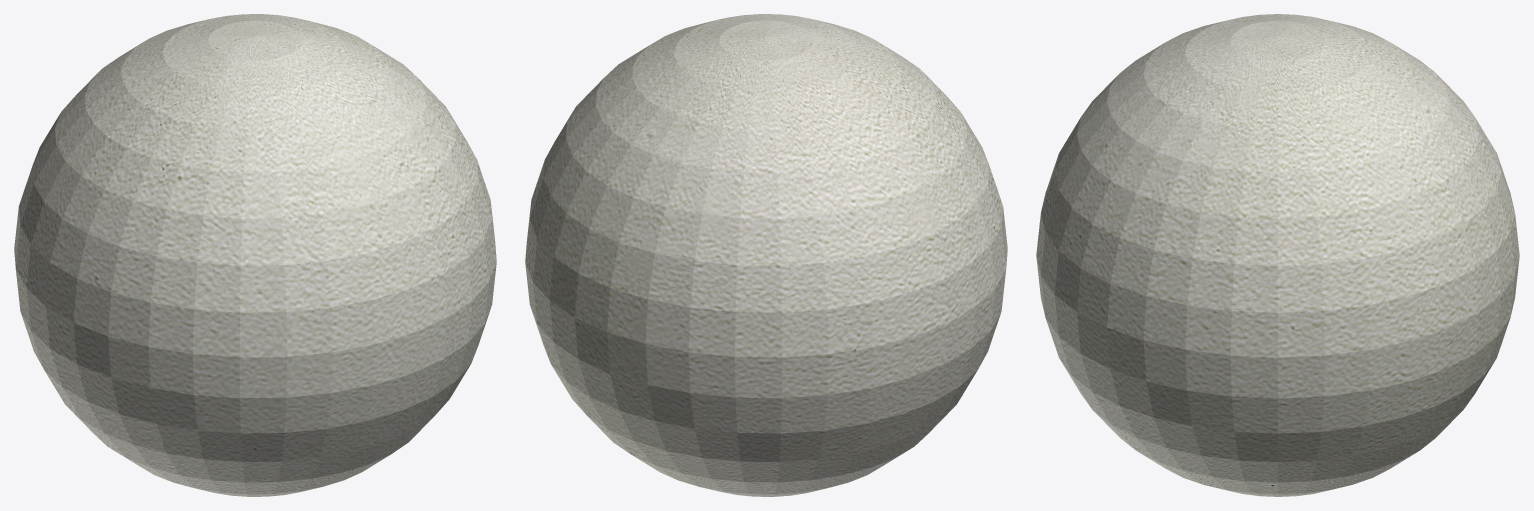
File: terepot_false.fbx
The picture shows the model from 3 angles, left to right: view 1: azimuth 30°, elevation 25°; view 2: azimuth 150°, elevation 25°; view 3: azimuth 270°, elevation 25°; orthographic projection.
Parts seen in each view (by area): view 1: terepot_false; view 2: terepot_false; view 3: terepot_false.
Boxes of the visible parts, x1,y1,x2,y2 form: terepot_false: [14, 14, 496, 496]; terepot_false: [525, 14, 1007, 496]; terepot_false: [1036, 14, 1519, 496].
Size of the model in its own units: 45.98 by 45.98 by 45.98.
Materials: 1 (1 with a texture image).
